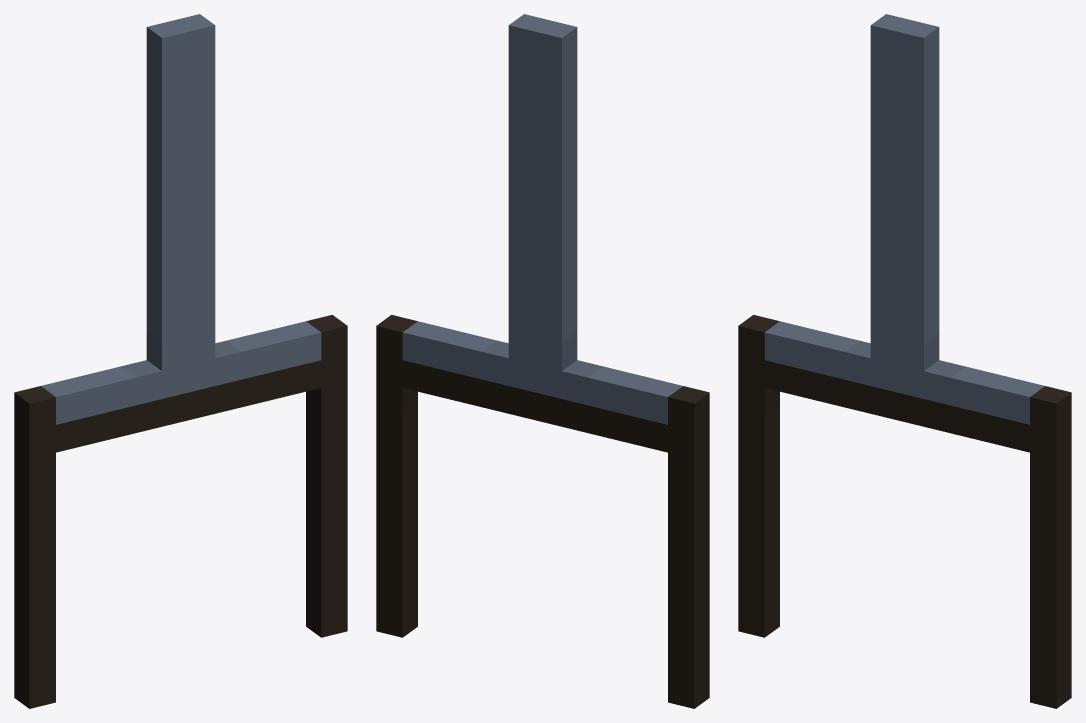
Rendered from latch.glb.
3 views of the same model, side by side, from view 1: azimuth 30°, elevation 25°; view 2: azimuth 150°, elevation 25°; view 3: azimuth 330°, elevation 25° (orthographic).
Visible parts, largest first — view 1: root; view 2: root; view 3: root.
Part boxes in pixels (box(x1,y1,x2,y2)): root: box(14, 14, 347, 708); root: box(376, 14, 709, 708); root: box(738, 14, 1071, 708).
Bounding box in the file's own units: 0.48 × 0.92 × 0.04.
Materials: 2 (2 with a texture image).
